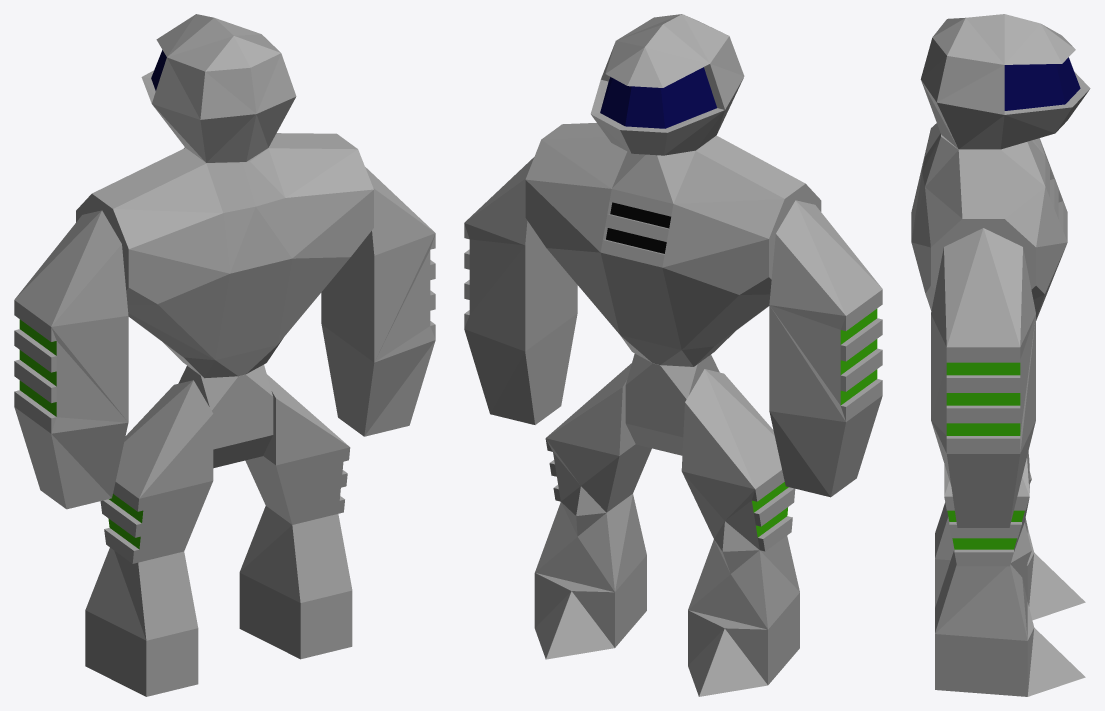
Rendered from JR-1_Mod.fbx.
3 renders of one model, left to right at view 1: azimuth 30°, elevation 25°; view 2: azimuth 150°, elevation 25°; view 3: azimuth 270°, elevation 25°, orthographic.
Visible parts, largest first — view 1: JR-1; view 2: JR-1; view 3: JR-1.
Part boxes in pixels (left/top/right/bottom): JR-1: left=14, top=14, right=435, bottom=696; JR-1: left=464, top=14, right=882, bottom=696; JR-1: left=911, top=14, right=1090, bottom=696.
Bounding box in the file's own units: 210 × 328 × 85.12.
